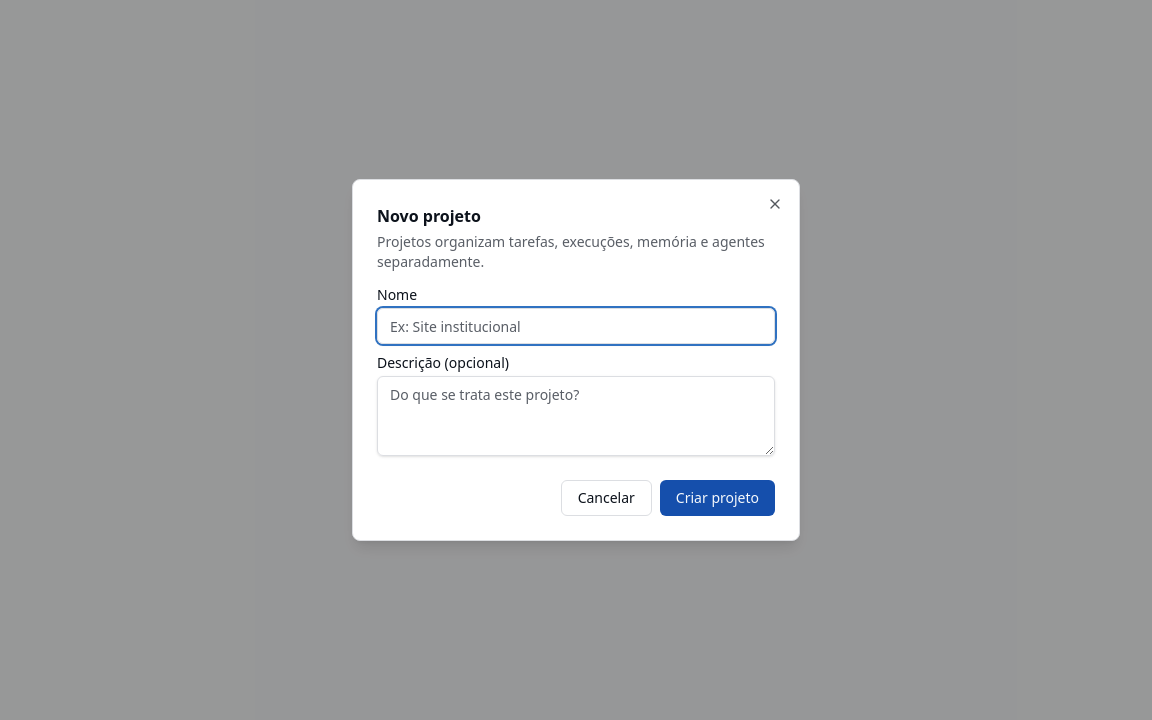
NewProjectDialog › shows a validation error when the name is blank
Click the button "Criar projeto" at (717, 498), box 660,480 -> 775,516
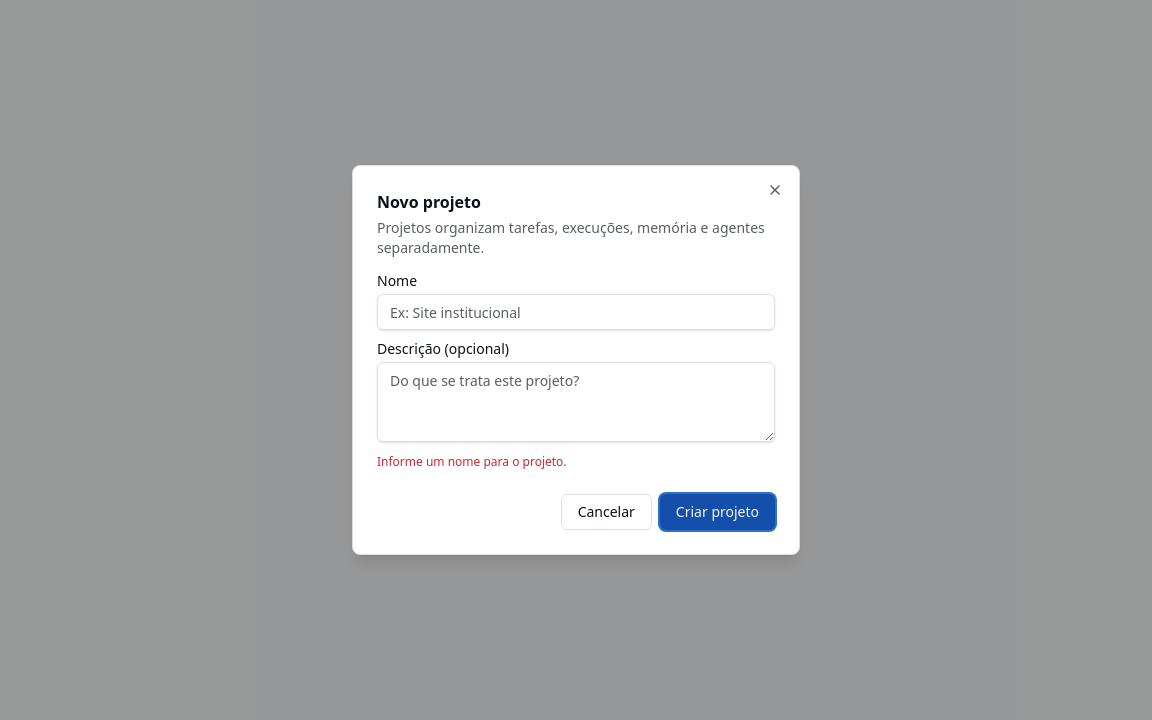
Check: the text "Informe um nome para o projeto." is shown, box 377,453 -> 567,470
